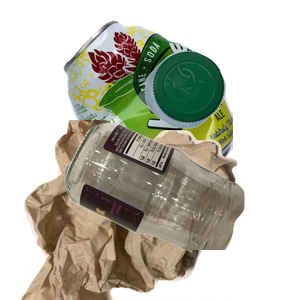glass: (62, 120, 300, 300)
metal: (60, 18, 300, 198)
plastic: (142, 48, 300, 169)
trash: (19, 120, 249, 300)
